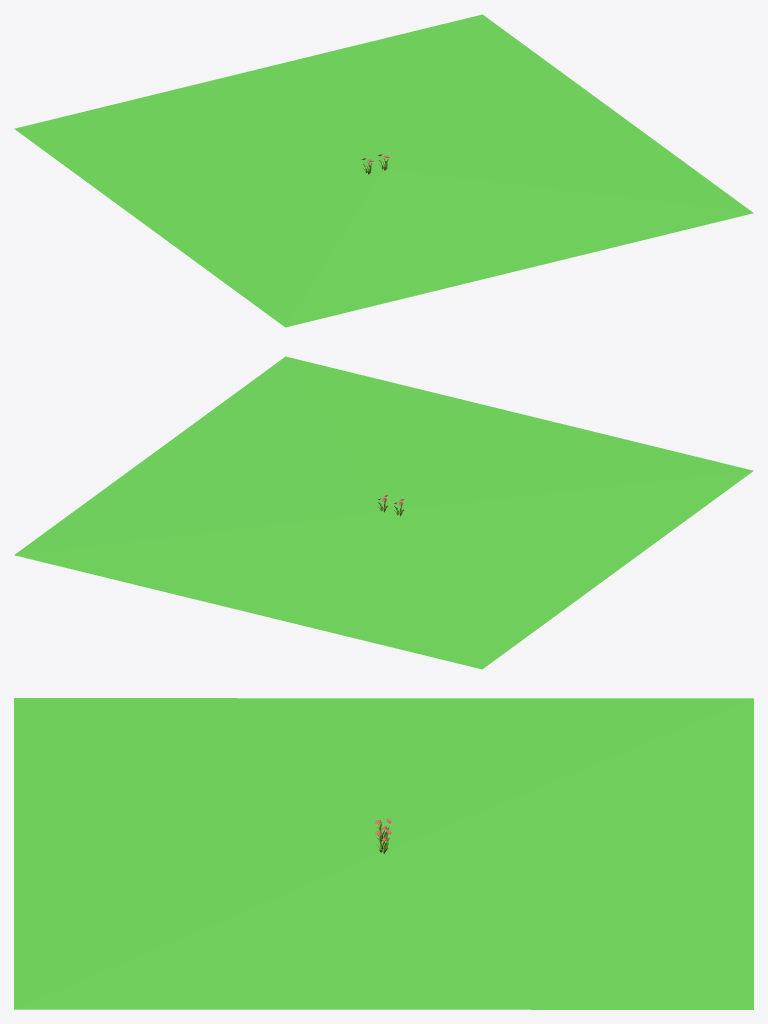
The picture shows the model from 3 angles, top to bottom: view 1: azimuth 30°, elevation 25°; view 2: azimuth 150°, elevation 25°; view 3: azimuth 270°, elevation 25°; orthographic projection. The views are drawn at different scales.
Visible parts, largest first — view 1: Flower_3_Group; view 2: Flower_3_Group; view 3: Flower_3_Group.
Part boxes in pixels (box(x1,y1,x2,y2)): Flower_3_Group: box(14, 14, 753, 327); Flower_3_Group: box(14, 356, 753, 669); Flower_3_Group: box(14, 698, 753, 1009).
Bounding box in the file's own units: 65.44 × 2.19 × 65.66.
Materials: 5 (4 with a texture image).
